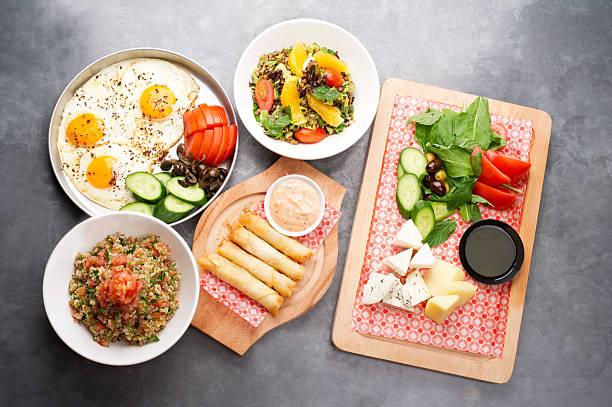Braised Crucian Carp: (329, 79, 554, 375), (47, 47, 232, 223), (191, 158, 352, 349), (40, 211, 198, 365), (232, 17, 379, 161)
